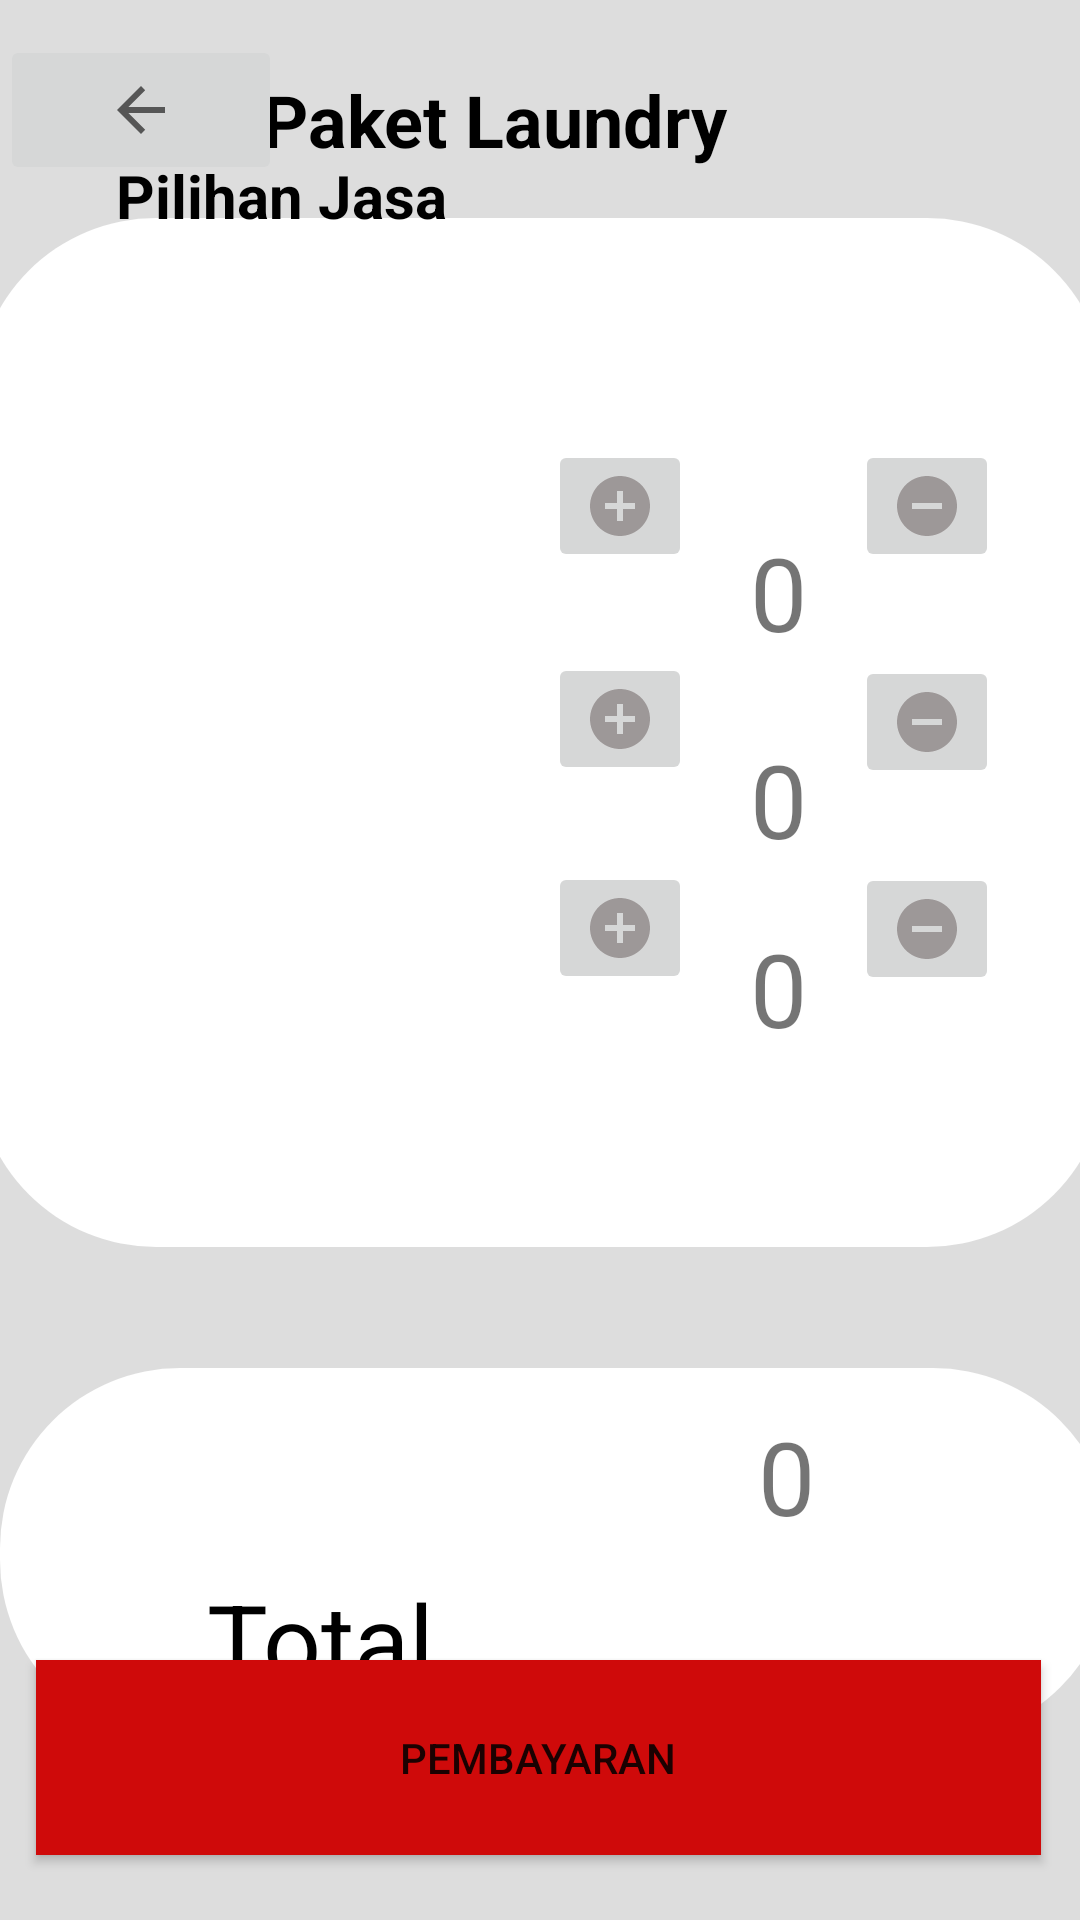

Where to tap for icons on this 1080x1920 app screen, as (x=x, y=y):
add circle: (x=620, y=506), (x=620, y=719), (x=620, y=928)
remove circle: (x=927, y=506), (x=927, y=722), (x=927, y=929)
